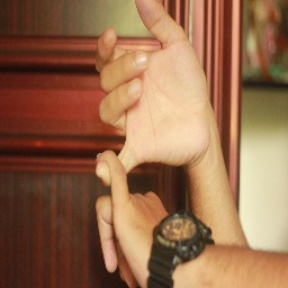S: (72, 2, 214, 280)
